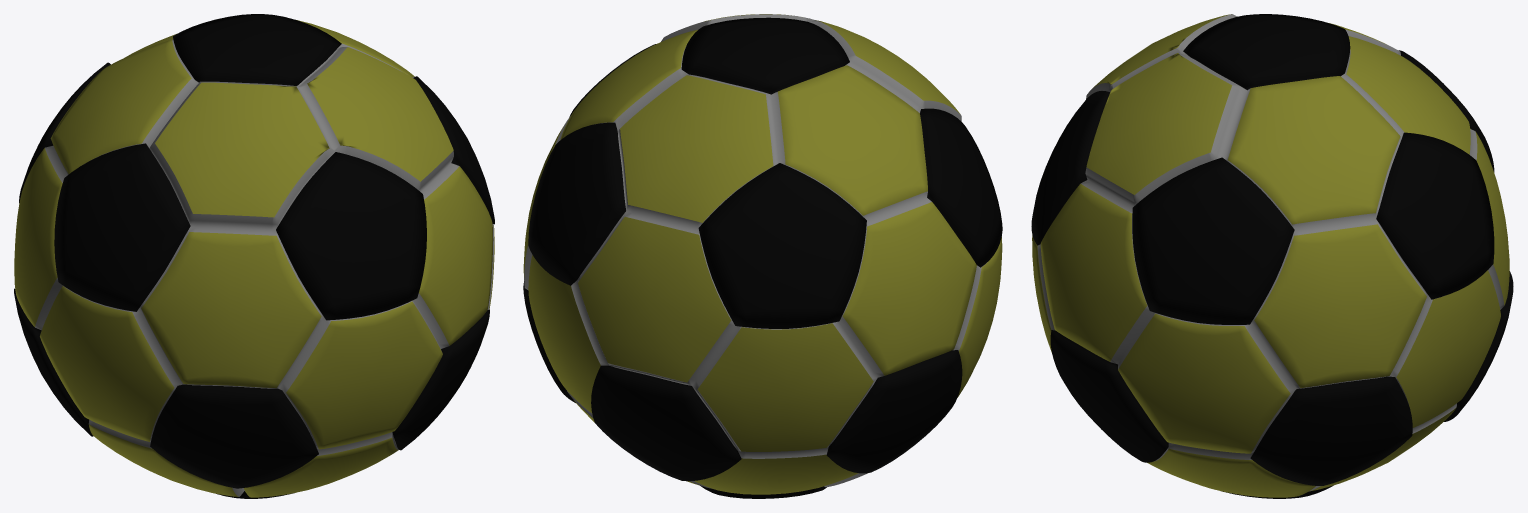
File: ball.fbx
3 views of the same model, side by side, from view 1: azimuth 30°, elevation 25°; view 2: azimuth 150°, elevation 25°; view 3: azimuth 270°, elevation 25° (orthographic).
Parts seen in each view (by area): view 1: ball; view 2: ball; view 3: ball.
Boxes of the visible parts, x1,y1,x2,y2 form: ball: [14, 14, 494, 498]; ball: [523, 14, 1002, 498]; ball: [1031, 14, 1513, 498].
Bounding box in the file's own units: 221 × 224 × 221.
